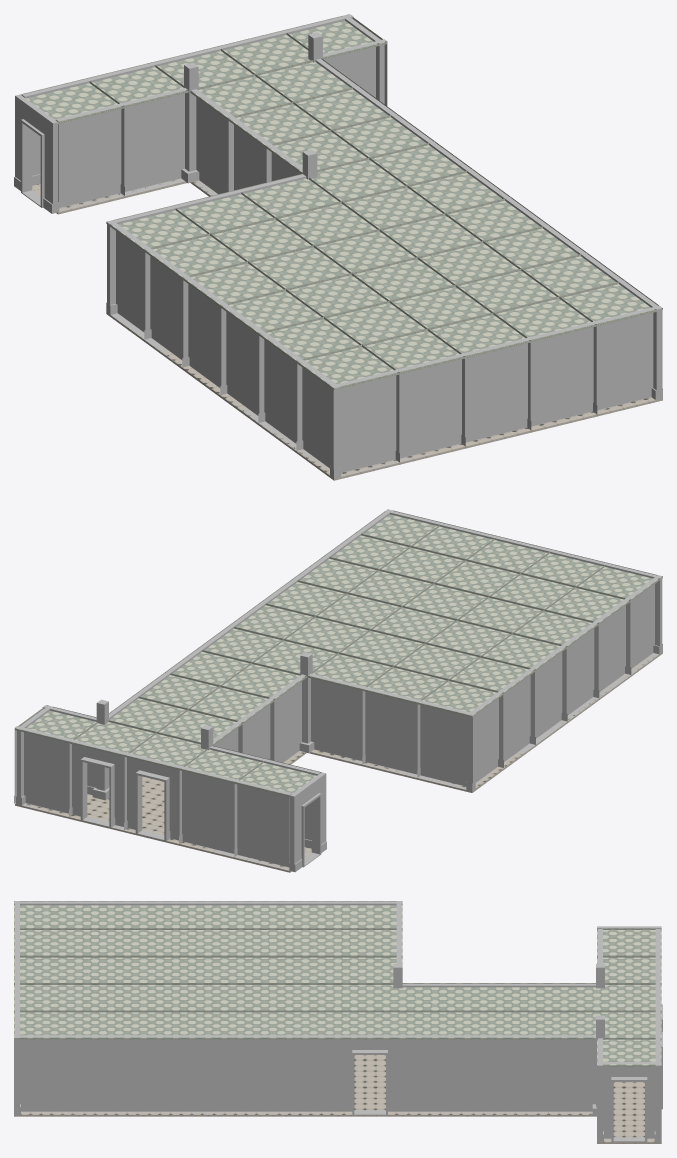
File: SecondRoom.fbx
3 views of the same model, one above another, from view 1: azimuth 30°, elevation 25°; view 2: azimuth 150°, elevation 25°; view 3: azimuth 270°, elevation 25° (orthographic). The views are drawn at different scales.
Parts seen in each view (by area): view 1: Ceiling.001, Walls.005, Floor.003, Wall_Doorframe, Walls.006, Wall_Doorframe.001; view 2: Ceiling.001, Walls.005, Walls.006, Floor.003, Wall_Doorframe.002, Wall_Doorframe.003, Wall_Doorframe, Wall_Doorframe.001; view 3: Ceiling.001, Walls.005, Floor.003, Wall_Doorframe.004, Wall_Doorframe.001, Walls.006.
Boxes of the visible parts, x1=… form: Ceiling.001: x1=20, y1=14, x2=662, y2=390; Walls.005: x1=55, y1=32, x2=662, y2=478; Floor.003: x1=32, y1=180, x2=662, y2=480; Wall_Doorframe: x1=14, y1=94, x2=59, y2=213; Walls.006: x1=22, y1=14, x2=353, y2=185; Wall_Doorframe.001: x1=341, y1=15, x2=384, y2=103; Ceiling.001: x1=15, y1=509, x2=662, y2=796; Walls.005: x1=42, y1=509, x2=662, y2=848; Walls.006: x1=14, y1=726, x2=292, y2=869; Floor.003: x1=15, y1=652, x2=662, y2=872; Wall_Doorframe.002: x1=69, y1=739, x2=127, y2=829; Wall_Doorframe.003: x1=124, y1=753, x2=182, y2=843; Wall_Doorframe: x1=289, y1=772, x2=326, y2=872; Wall_Doorframe.001: x1=16, y1=705, x2=52, y2=805; Ceiling.001: x1=14, y1=901, x2=661, y2=1066; Walls.005: x1=14, y1=901, x2=604, y2=1142; Floor.003: x1=14, y1=1055, x2=661, y2=1143; Wall_Doorframe.004: x1=338, y1=1035, x2=402, y2=1115; Wall_Doorframe.001: x1=597, y1=1062, x2=661, y2=1142; Walls.006: x1=654, y1=929, x2=661, y2=1142.
Bounding box in the file's own units: 1203 × 332 × 2004.
